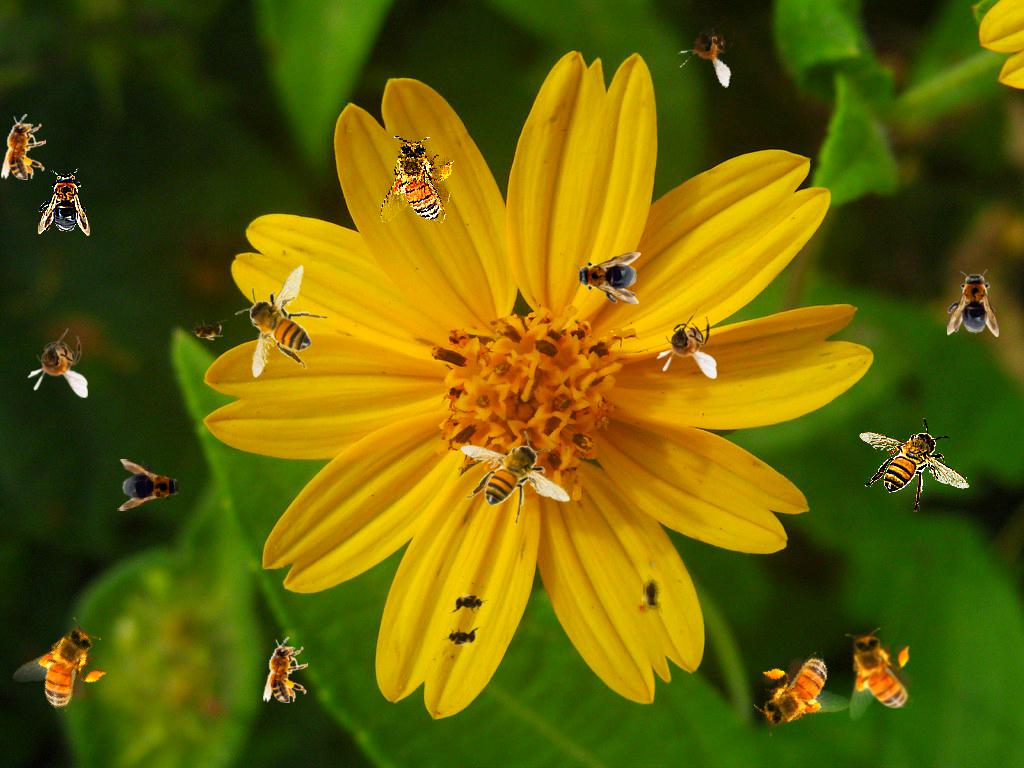Bee: (7, 612, 123, 725), (232, 263, 333, 379), (460, 431, 571, 525), (859, 418, 970, 512), (744, 646, 854, 739), (374, 129, 462, 236), (669, 6, 748, 90), (845, 628, 913, 721), (27, 328, 88, 398), (656, 309, 717, 379), (573, 252, 641, 304), (947, 269, 999, 337), (38, 168, 90, 236), (117, 459, 185, 511), (1, 114, 46, 180), (263, 637, 308, 703), (449, 592, 489, 614), (442, 626, 482, 648), (641, 574, 663, 614), (187, 319, 227, 341)
